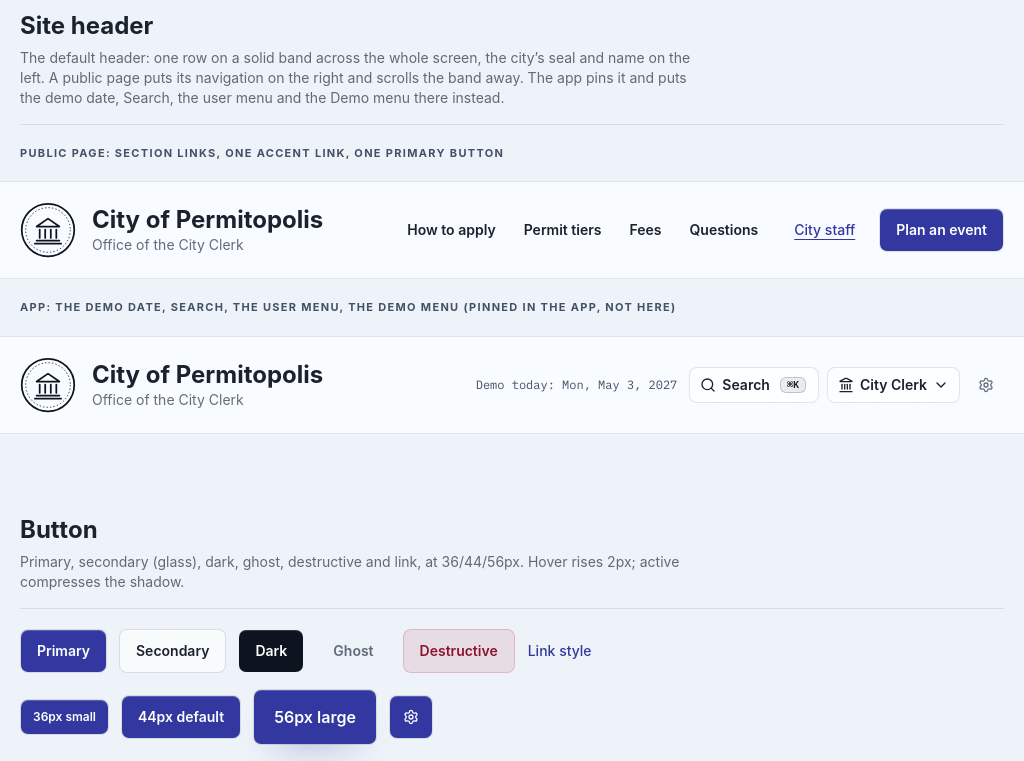
the Phase 1 kit page › shows the site header twice: the public page's, and the app's with a working user menu
(page scrolled)
Expected: the number of links "City of Permitopolis Office of the City Clerk" is 2, 20,202 -> 323,258; 20,357 -> 323,413
Expected: the navigation bar named "Primary" is shown, 407,221 -> 758,238
Click the button with aria-label "Switch user: City Clerk": {"x": 894, "y": 385} 827,367 -> 960,403
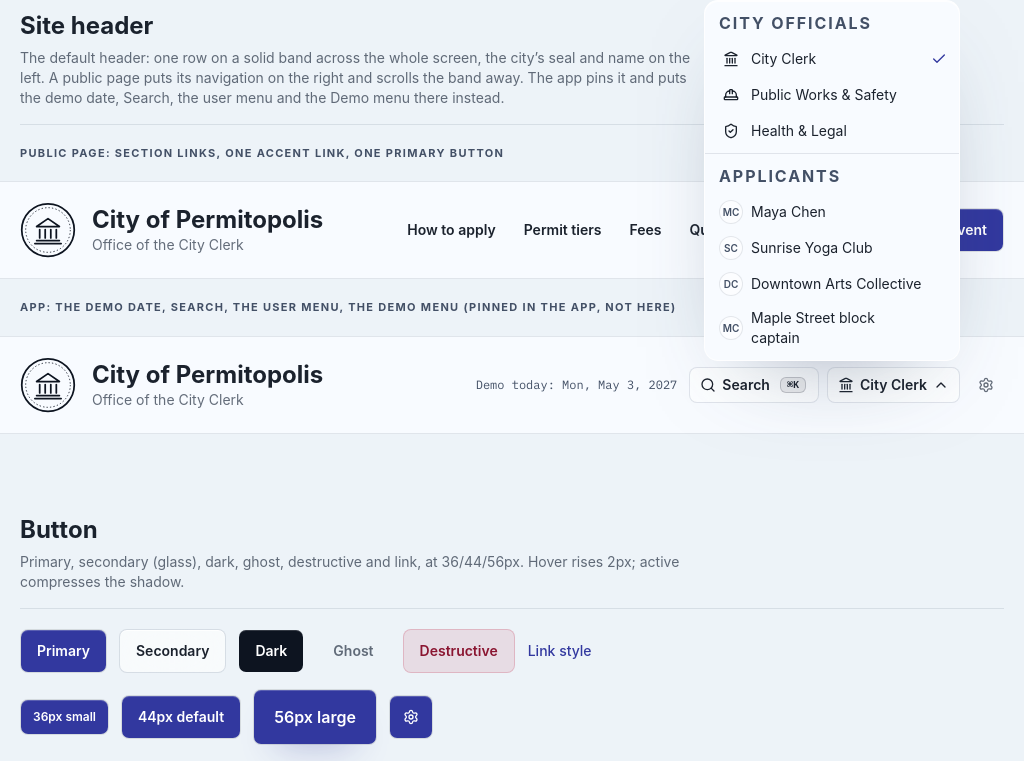
Click the menu item "MC Maya Chen": {"x": 772, "y": 212} 719,200 -> 826,224
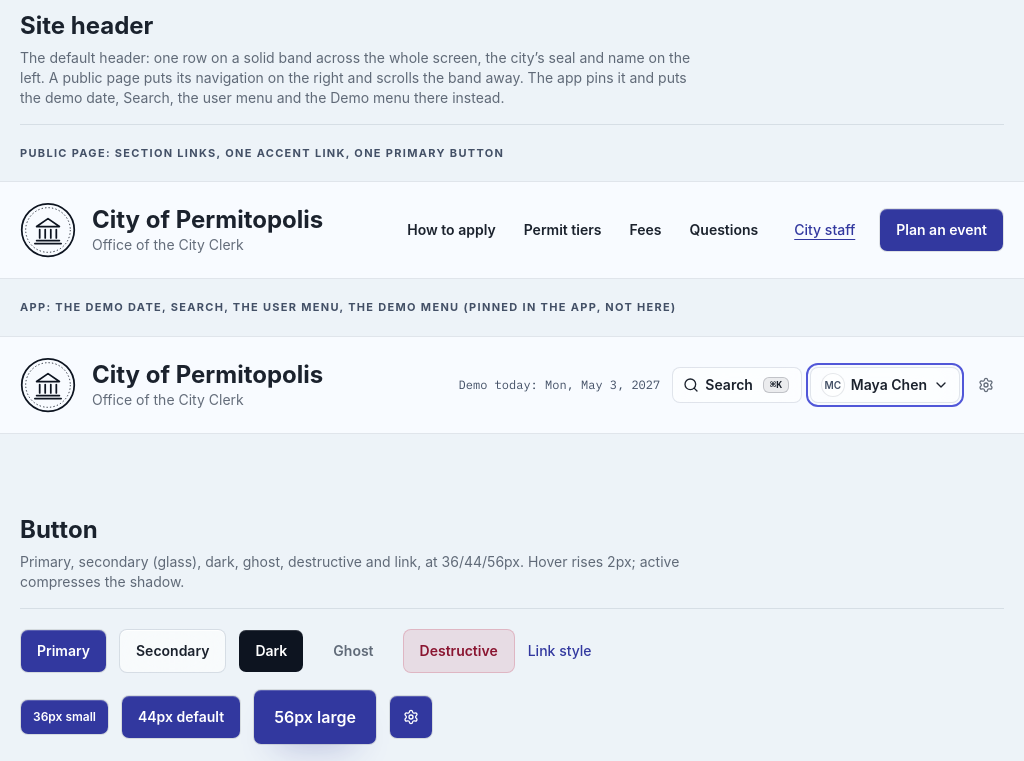
Now the button with aria-label "Switch user: Maya Chen" is shown, box 810,367 -> 960,403
